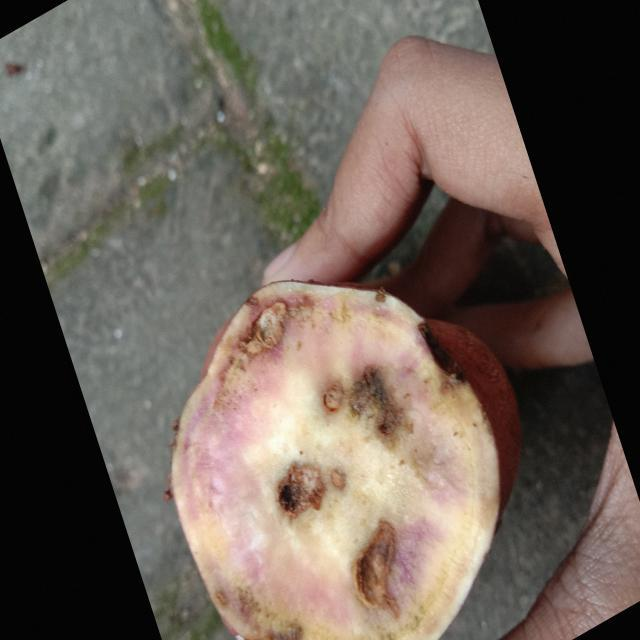Sick Sweet Potato_Tuber Rot: (169, 282, 520, 638)
